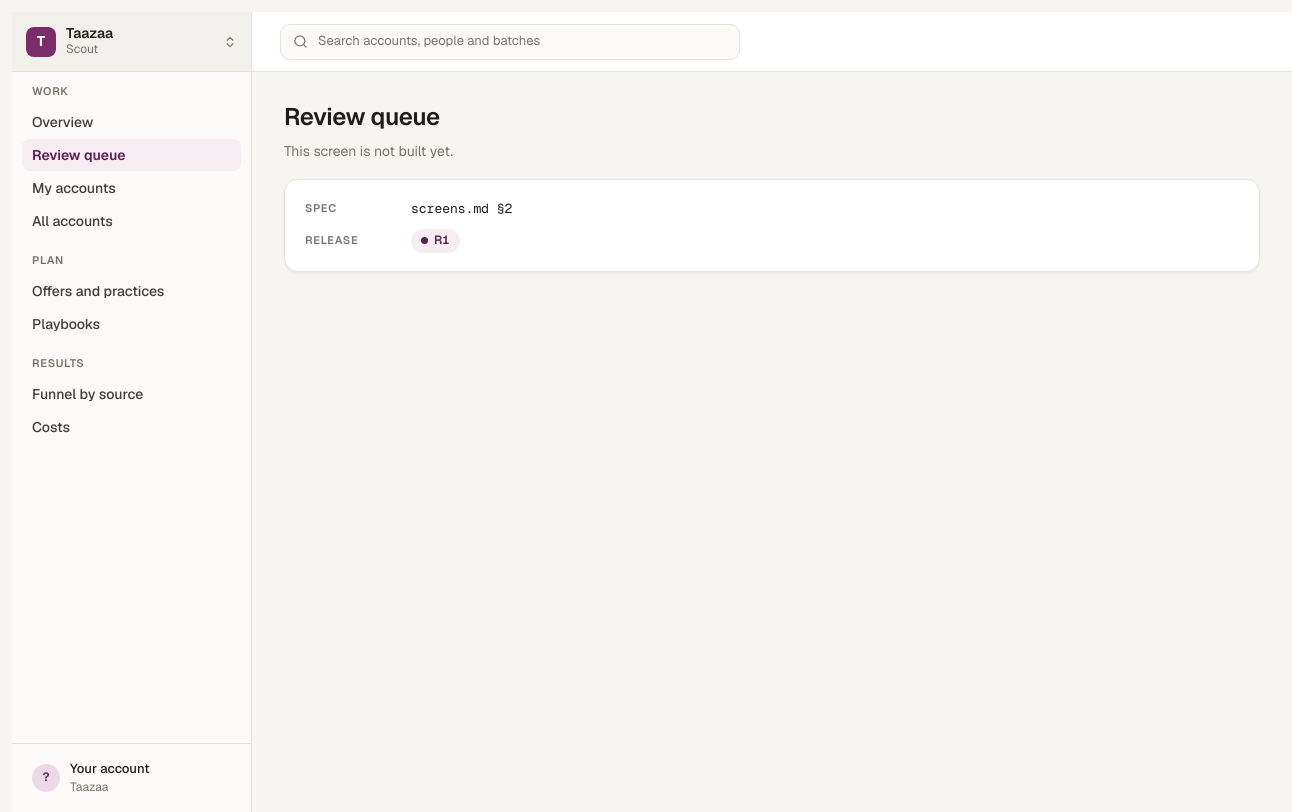
Test: workspace switcher › shows only the current workspace while /me has no list
The image size is (1292, 812).
Step 1. Click the button named "Switch workspace" → (132, 42), box 12,12 -> 251,72
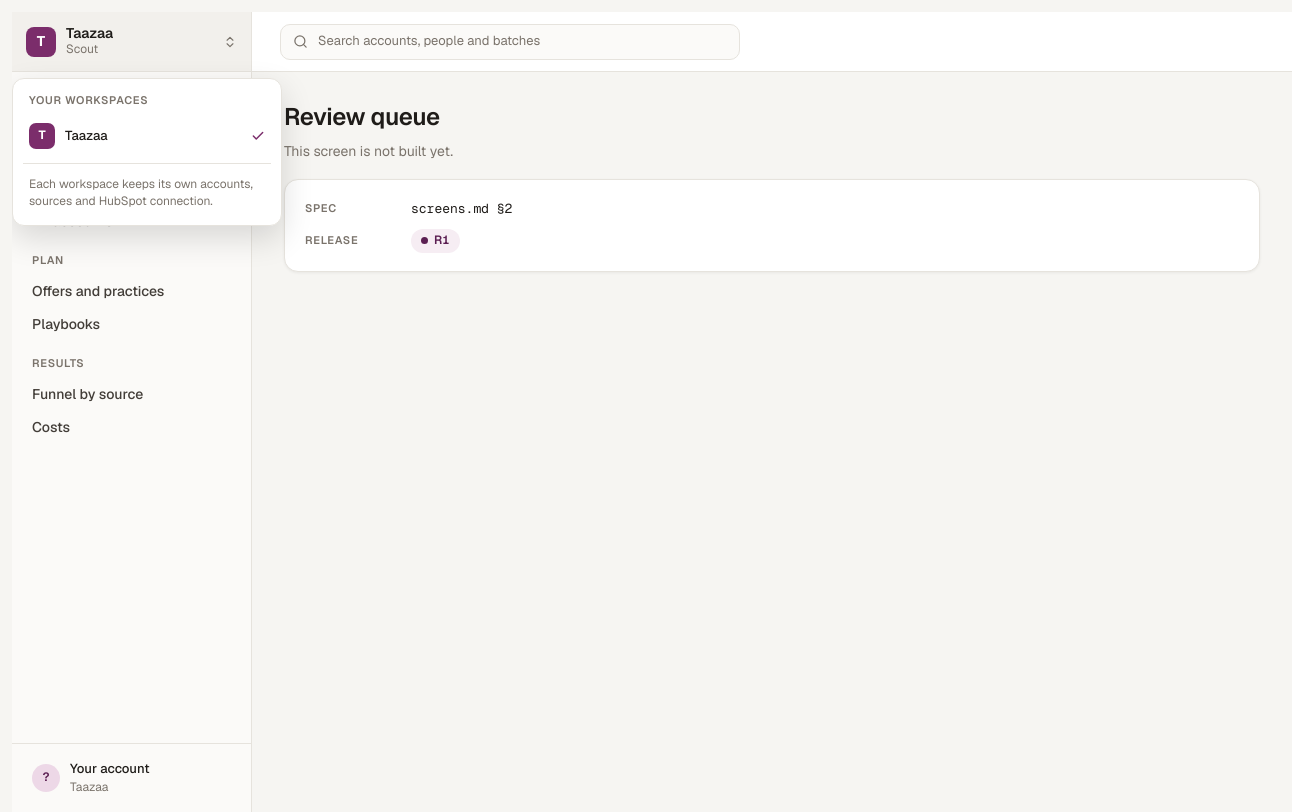
Result: the number of menu items is 1 at 19,115 -> 275,157
Result: the text "Each workspace keeps its own accounts, sources and HubSpot connection." is shown at 19,170 -> 275,219
